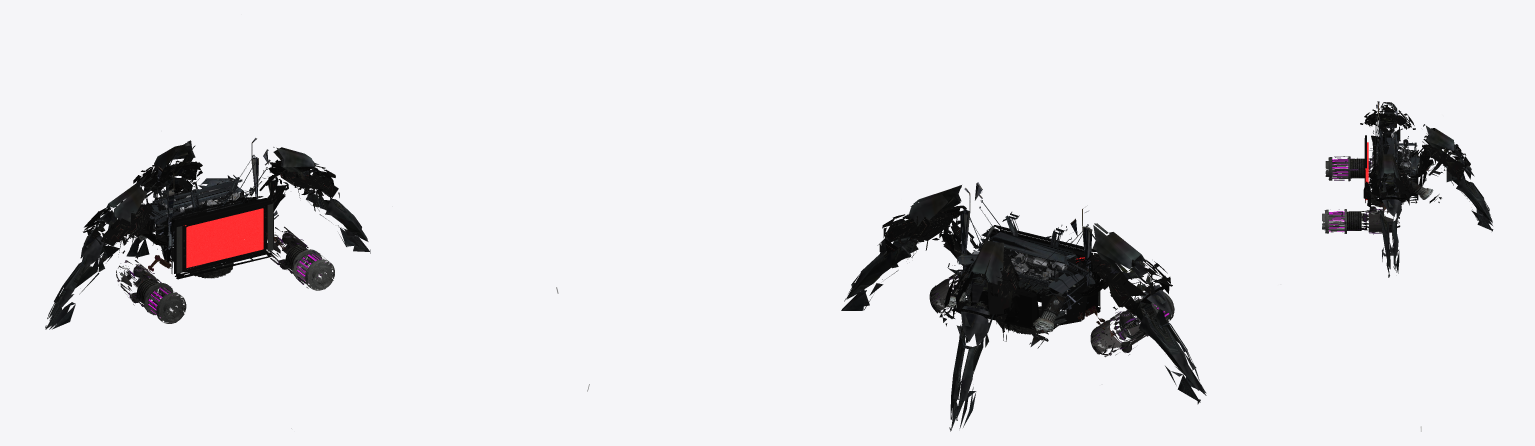
Rendered from stridertv.glb.
3 views of the same model, side by side, from view 1: azimuth 30°, elevation 25°; view 2: azimuth 150°, elevation 25°; view 3: azimuth 270°, elevation 25° (orthographic). The views are drawn at different scales.
Parts seen in each view (by area): view 1: Object_27, Object_26, Object_23, Object_24, Object_6, Object_38, Object_35, Object_22, Object_2, Object_20, Object_11, Object_25 (+1 smaller); view 2: Object_27, Object_26, Object_24, Object_6, Object_20, Object_22, Object_32, Object_30, Object_11; view 3: Object_27, Object_26, Object_24, Object_6, Object_11, Object_32, Object_35, Object_38, Object_22, Object_10, Object_12.
Boxes of the visible parts, x1,y1,x2,y2 form: Object_27: [45, 140, 370, 329]; Object_26: [83, 159, 339, 257]; Object_23: [185, 208, 263, 267]; Object_24: [156, 196, 273, 279]; Object_6: [149, 175, 278, 248]; Object_38: [292, 249, 334, 290]; Object_35: [143, 283, 186, 323]; Object_22: [157, 138, 270, 258]; Object_2: [170, 205, 266, 273]; Object_20: [116, 260, 181, 313]; Object_11: [269, 226, 331, 288]; Object_25: [176, 204, 273, 273]; Object_27: [841, 185, 1206, 431]; Object_26: [879, 205, 1172, 327]; Object_24: [969, 225, 1100, 332]; Object_6: [947, 212, 1095, 313]; Object_20: [1090, 297, 1158, 357]; Object_22: [960, 182, 1093, 313]; Object_32: [937, 264, 1068, 348]; Object_30: [972, 245, 1067, 294]; Object_11: [929, 270, 967, 315]; Object_27: [1377, 102, 1493, 277]; Object_26: [1360, 108, 1470, 205]; Object_24: [1364, 135, 1422, 207]; Object_6: [1369, 130, 1419, 184]; Object_11: [1331, 206, 1400, 234]; Object_32: [1401, 146, 1442, 203]; Object_35: [1325, 156, 1350, 180]; Object_38: [1322, 209, 1347, 233]; Object_22: [1369, 101, 1400, 200]; Object_10: [1344, 211, 1361, 230]; Object_12: [1348, 158, 1364, 178].
Bounding box in the file's own units: 30.37 × 21.59 × 19.21.
32 materials, 17 textured.
